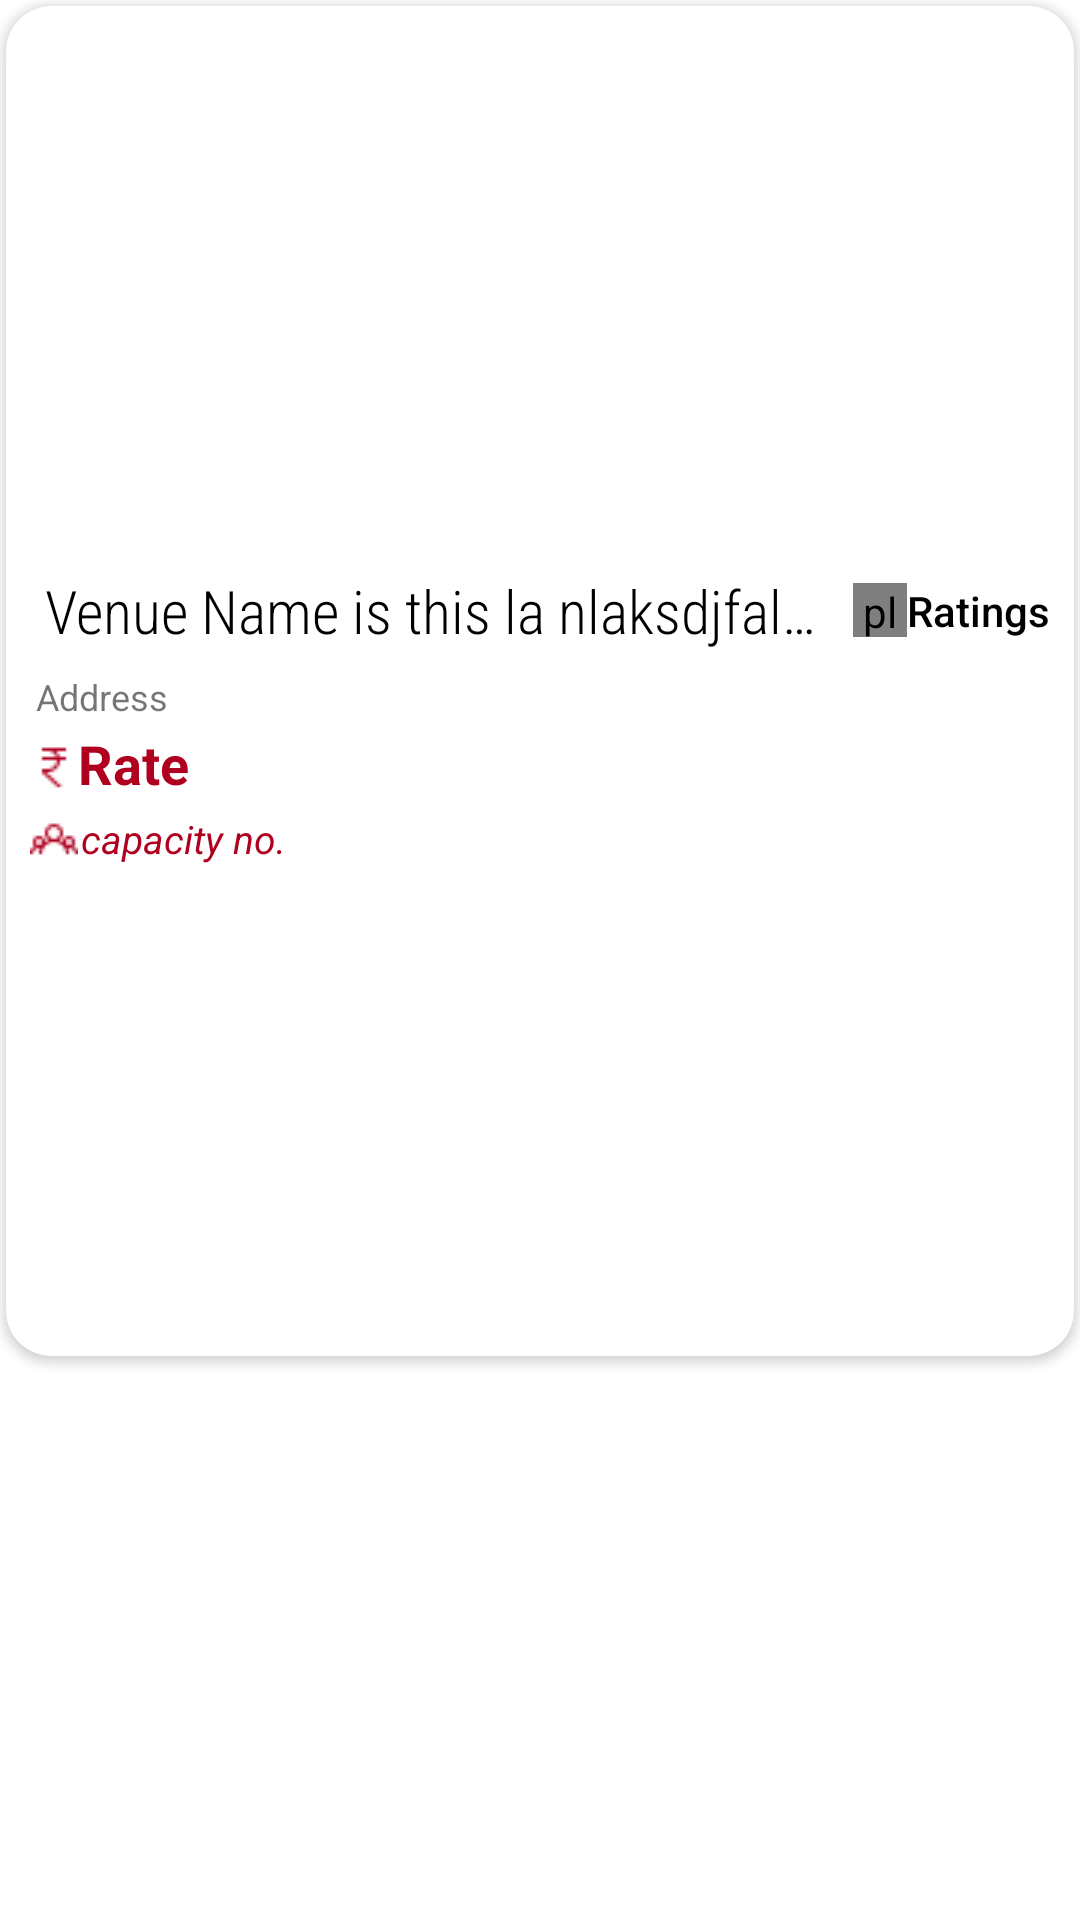

Screen size 1080x1920. Icon name, then its box in pixels as (x1,y1,x2,y2):
people: (30,823,78,855)
rupee: (41,747,67,788)
